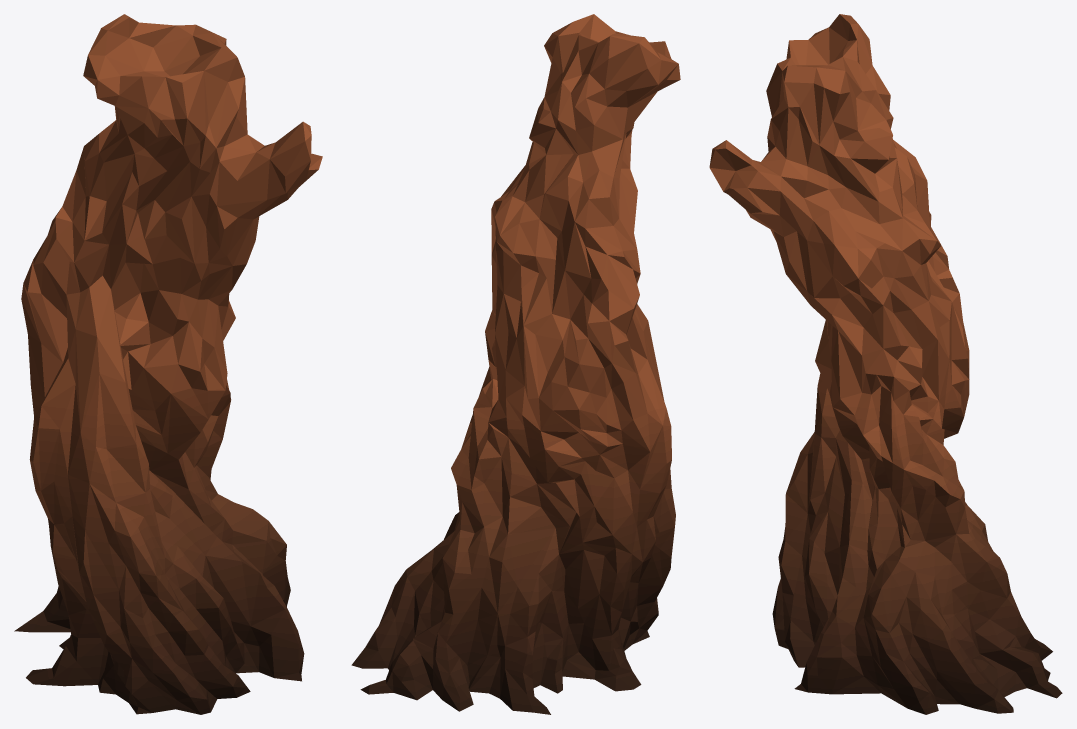
The model's file is TallTree.glb.
3 views of the same model, side by side, from view 1: azimuth 30°, elevation 25°; view 2: azimuth 150°, elevation 25°; view 3: azimuth 270°, elevation 25° (orthographic). The views are drawn at different scales.
Parts seen in each view (by area): view 1: TallTree.col; view 2: TallTree.col; view 3: TallTree.col.
Boxes of the visible parts, x1=… form: TallTree.col: x1=14, y1=14, x2=322, y2=714; TallTree.col: x1=351, y1=14, x2=680, y2=714; TallTree.col: x1=709, y1=14, x2=1062, y2=714.
Bounding box in the file's own units: 1.52 × 3.52 × 1.86.
1 material, 1 textured.
